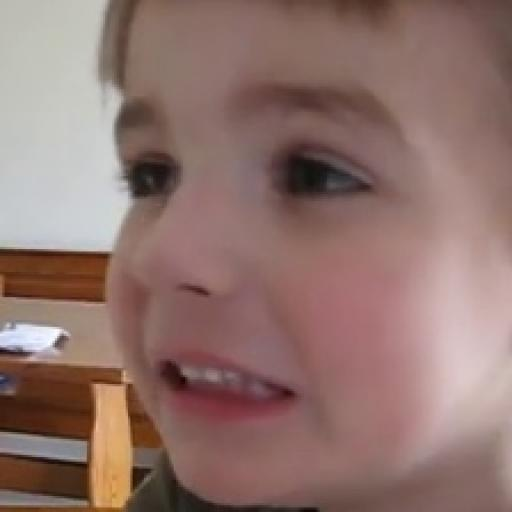Autism: (80, 0, 509, 443), (102, 0, 512, 461)
